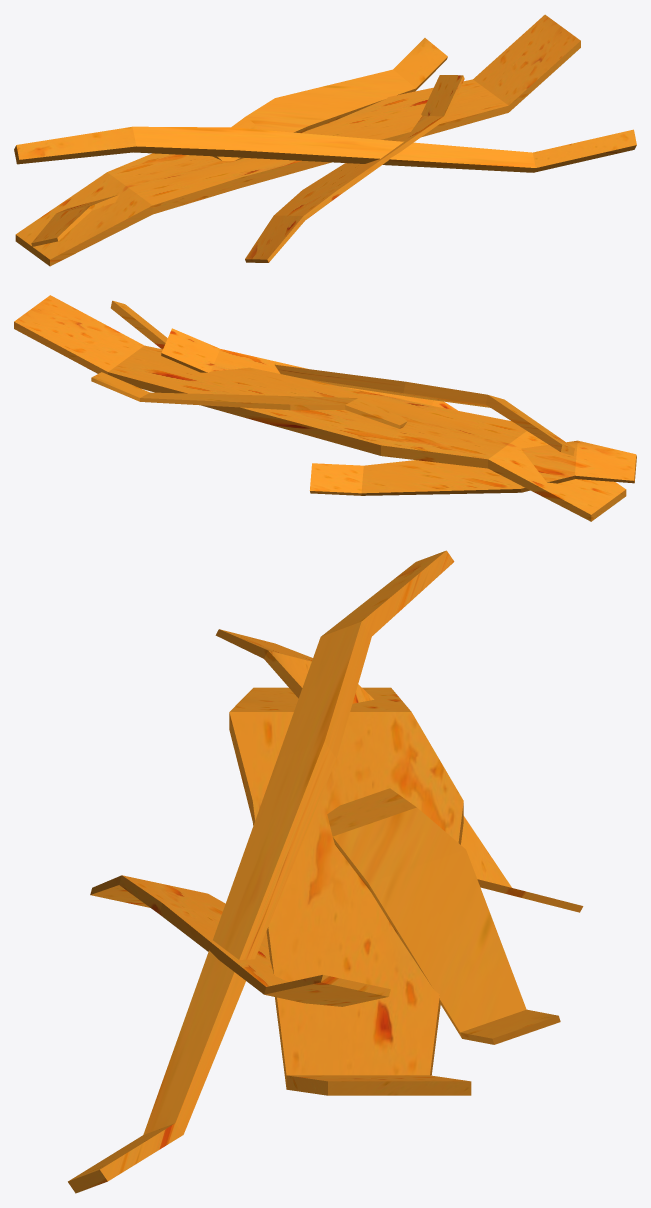
The model's file is kasar dilim.fbx.
The picture shows the model from 3 angles, top to bottom: view 1: azimuth 30°, elevation 25°; view 2: azimuth 150°, elevation 25°; view 3: azimuth 270°, elevation 25°; orthographic projection. The views are drawn at different scales.
Visible parts, largest first — view 1: Cube.004; view 2: Cube.004; view 3: Cube.004.
Boxes of the visible parts, box(x1,y1,x2,y2) form: Cube.004: box(14, 14, 636, 266); Cube.004: box(14, 295, 636, 521); Cube.004: box(68, 550, 583, 1193).
Size of the model in its own units: 405 by 78 by 161.
1 material, 1 textured.
